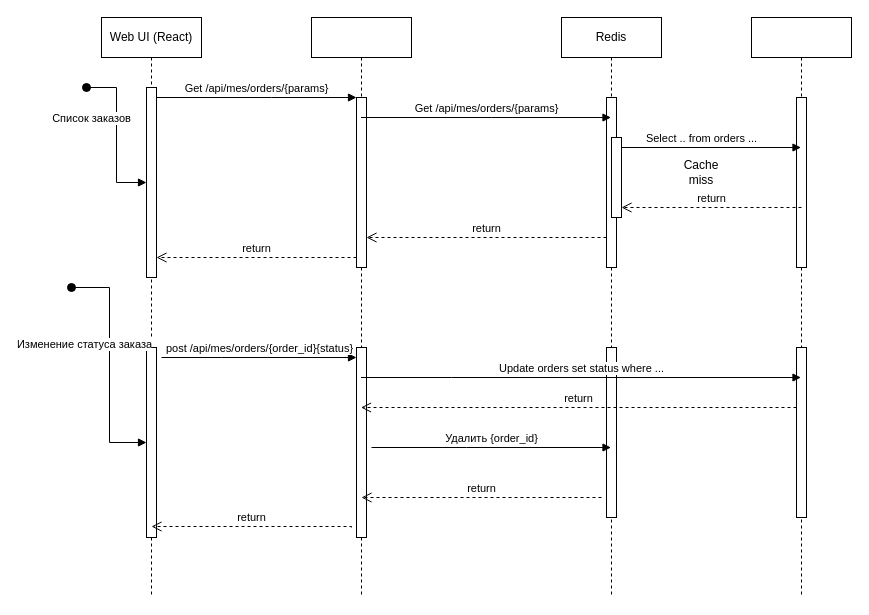
Image size: 869x615. Some labels were removed from this diagram. The box of each missing label's shape, as (x1, y1, x2, y2) in pixels:
Backend(C#): (310, 16, 412, 598)
PostgreSQL: (750, 16, 852, 598)
